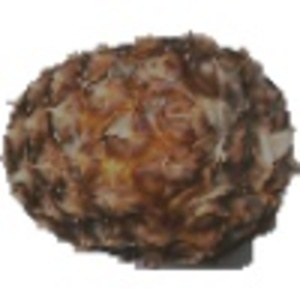abacaxi: (8, 22, 294, 258)
